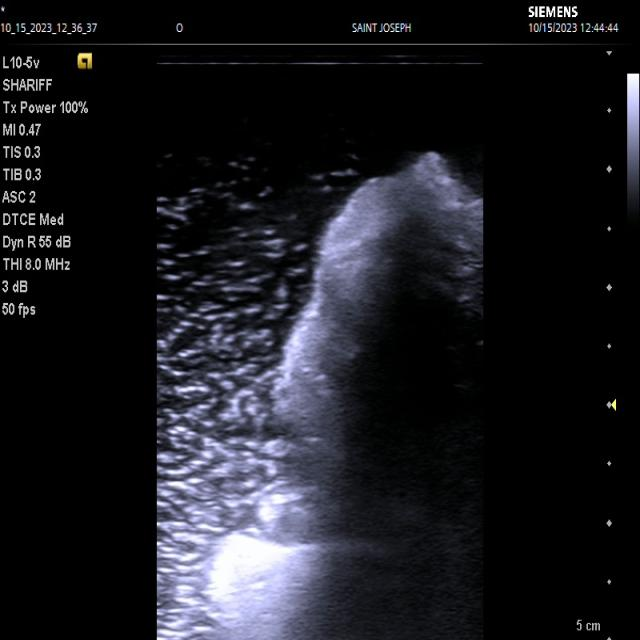tissue: (192, 151, 494, 640)
